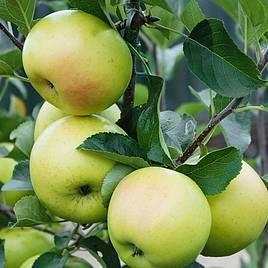apple: (17, 8, 131, 116), (29, 115, 129, 223), (105, 166, 213, 266), (198, 155, 266, 257)
